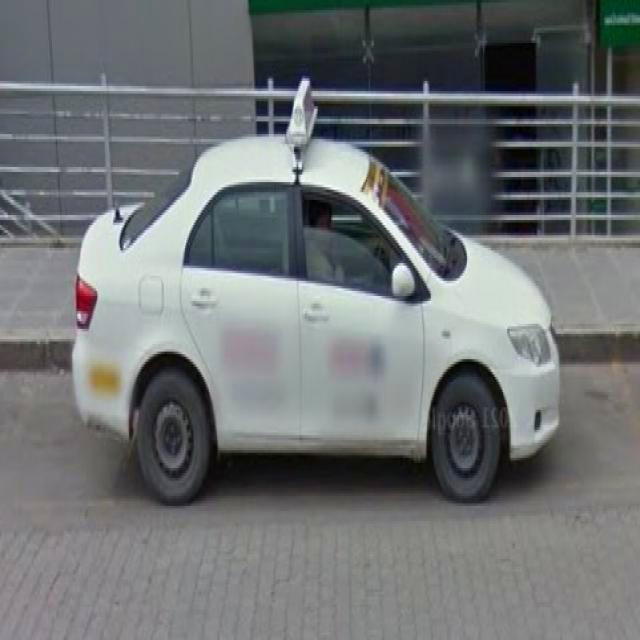Car: (70, 132, 558, 508)
